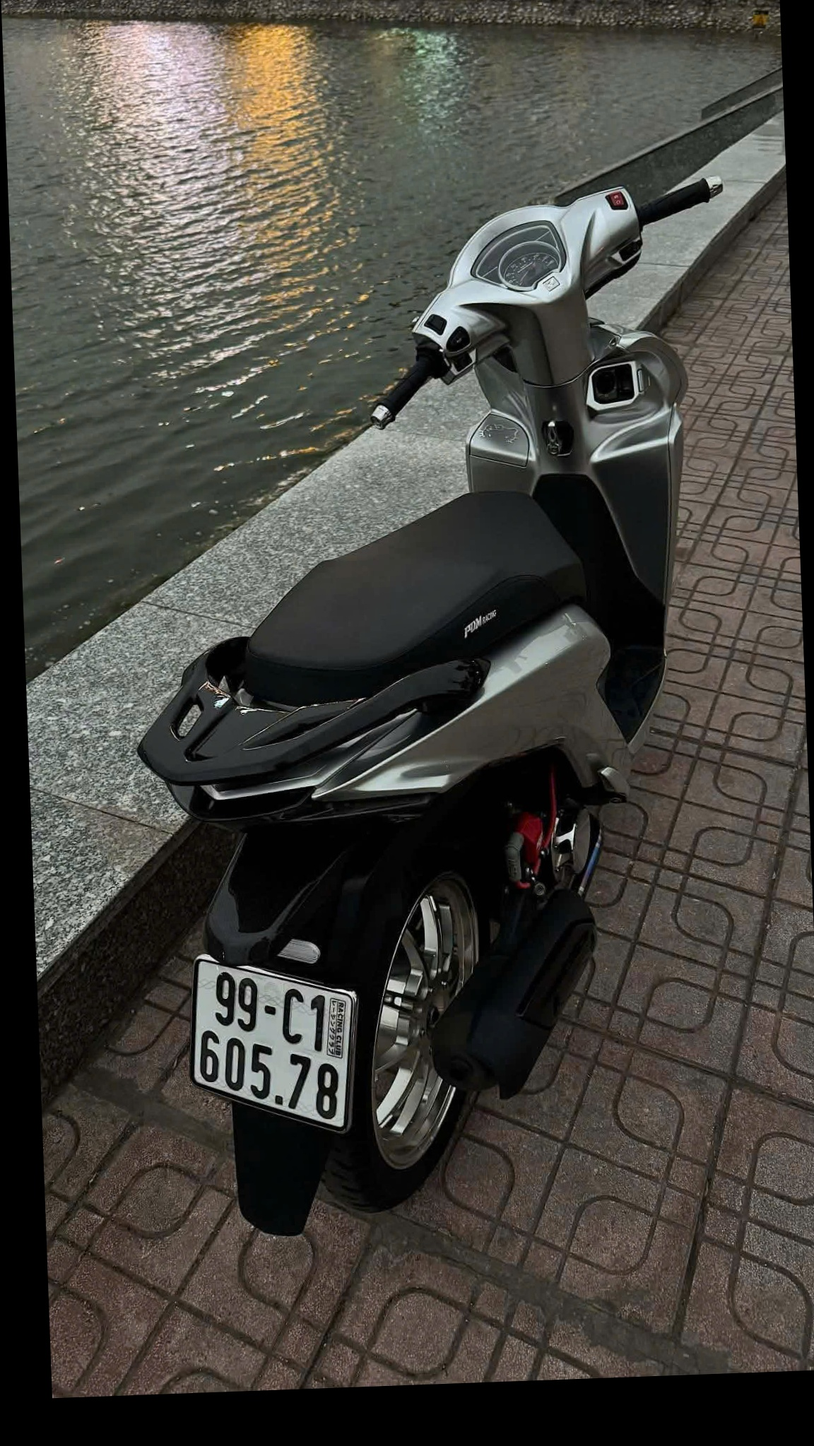Bien-so: (110, 985, 310, 1187)
